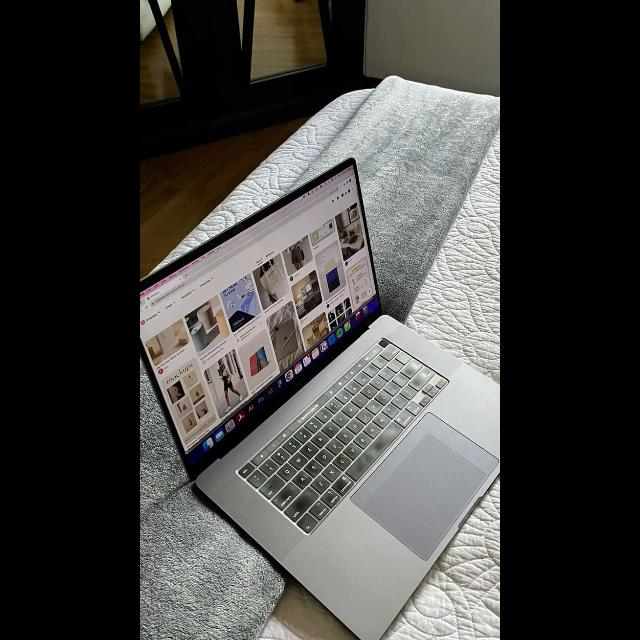laptop: (140, 158, 500, 640)
